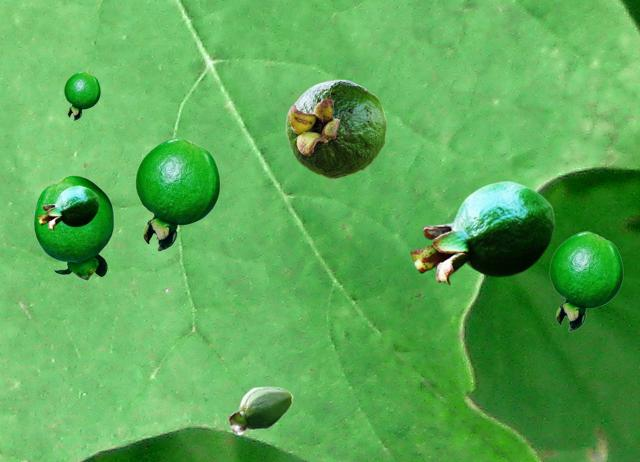guava: (410, 180, 554, 284), (285, 79, 386, 178), (135, 137, 219, 250), (33, 175, 113, 279), (549, 231, 622, 330), (228, 386, 292, 434), (37, 185, 98, 229), (64, 71, 99, 119)
